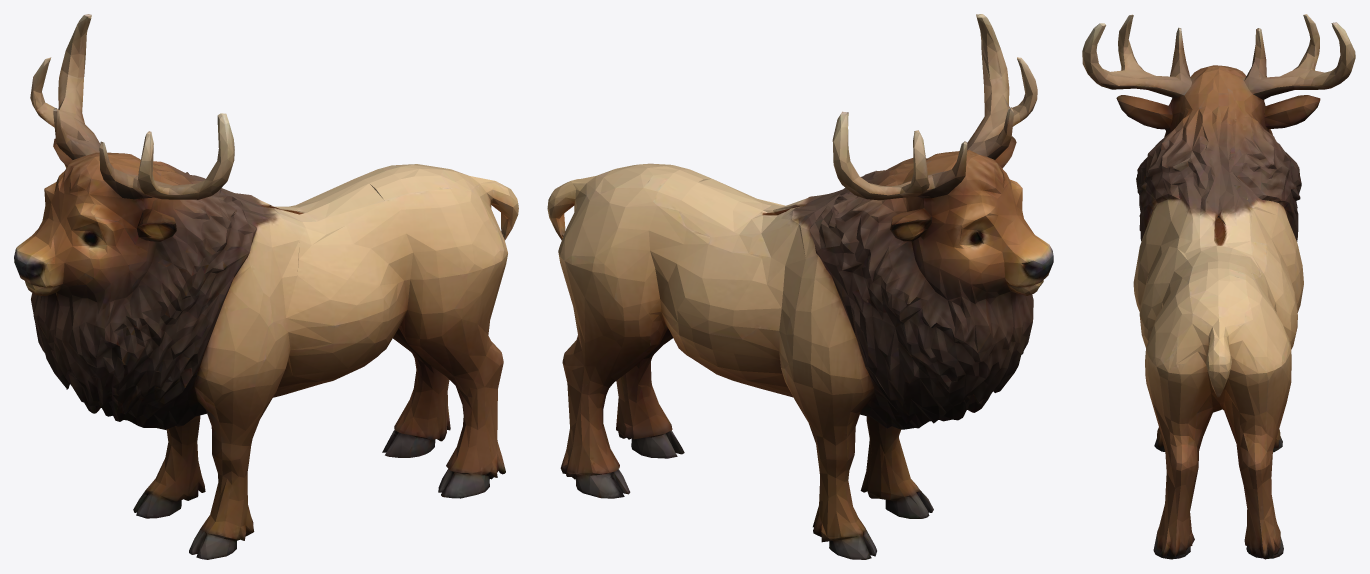
Rendered from elk.glb.
3 renders of one model, left to right at view 1: azimuth 30°, elevation 25°; view 2: azimuth 150°, elevation 25°; view 3: azimuth 270°, elevation 25°, orthographic. The views are drawn at different scales.
Visible parts, largest first — view 1: geometry_0; view 2: geometry_0; view 3: geometry_0.
Part boxes in pixels (x1,y1,x2,y2): geometry_0: (14,14,518,559); geometry_0: (547,14,1053,559); geometry_0: (1082,14,1355,559).
Bounding box in the file's own units: 0.9953 × 0.9025 × 0.5474.
Materials: 1 (1 with a texture image).
